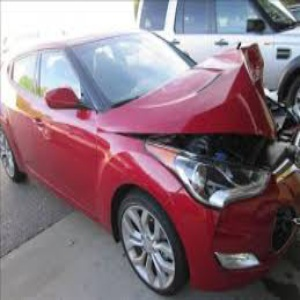bonnet: (177, 43, 278, 145)
